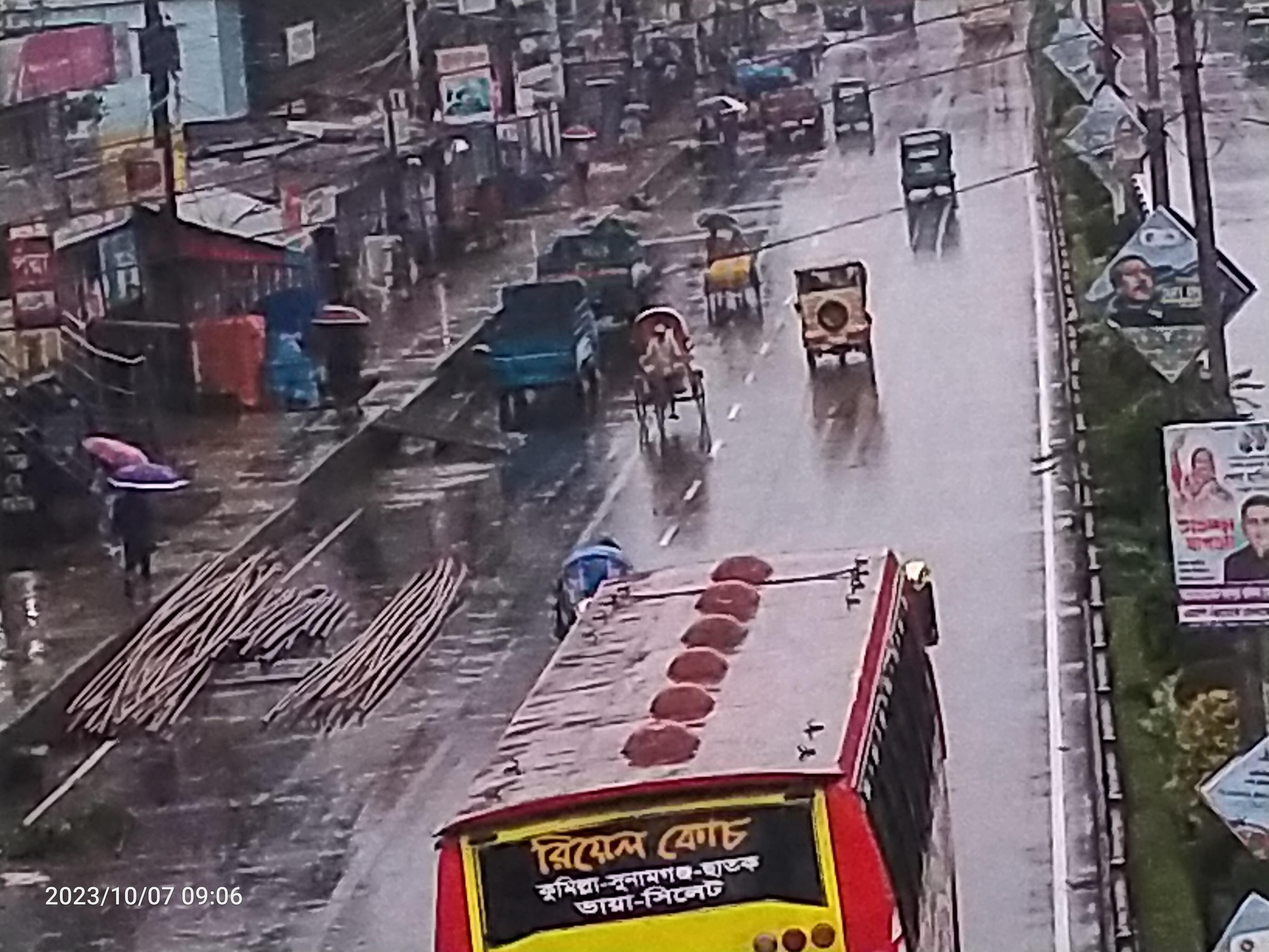Bus: (417, 539, 973, 952)
Car: (771, 248, 890, 385), (535, 517, 657, 648), (619, 297, 736, 433), (678, 210, 775, 332)
Truck: (464, 267, 604, 432), (745, 68, 828, 158)
